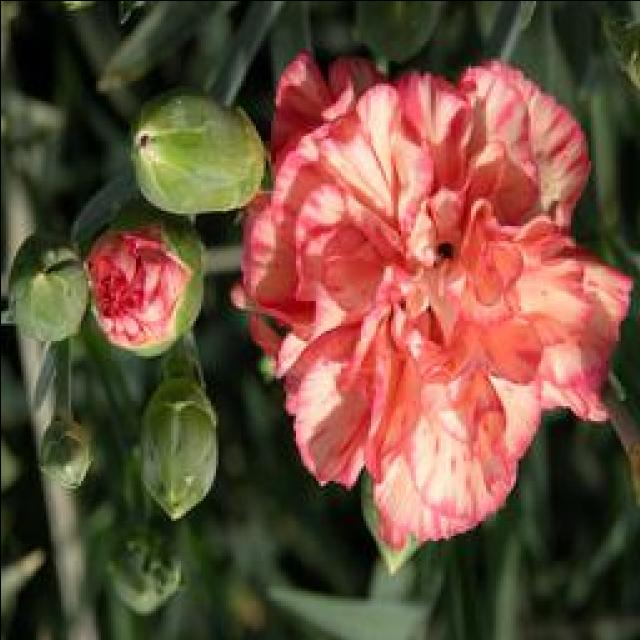carnation: (256, 55, 622, 551)
